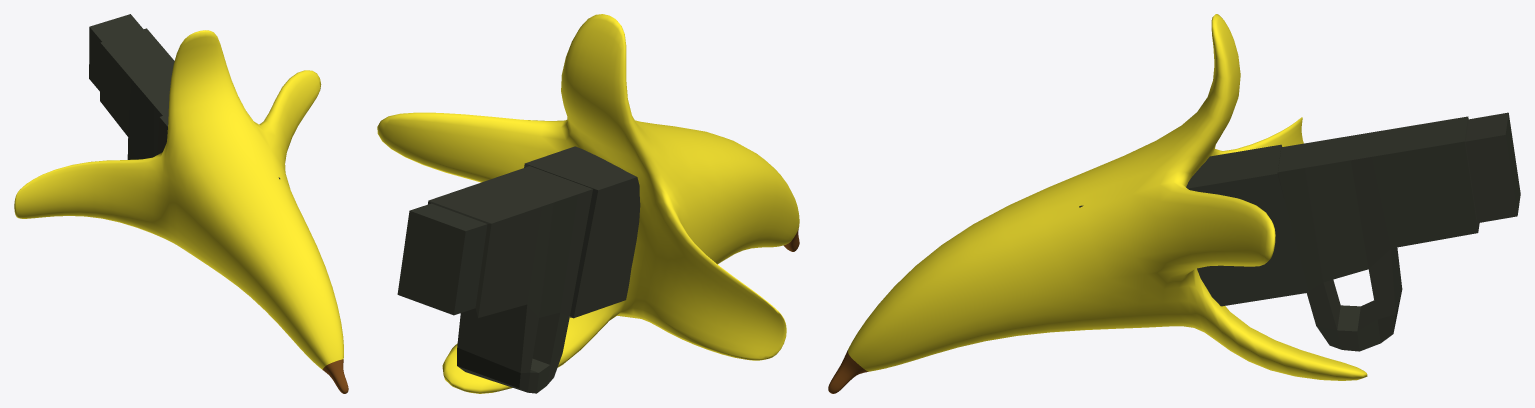
The model's file is bananagunreal.fbx.
3 renders of one model, left to right at view 1: azimuth 30°, elevation 25°; view 2: azimuth 150°, elevation 25°; view 3: azimuth 270°, elevation 25°, orthographic. The views are drawn at different scales.
Parts seen in each view (by area): view 1: Cubo.001, Cubo; view 2: Cubo.001, Cubo; view 3: Cubo.001, Cubo.
Part boxes in pixels (x1,y1,x2,y2): Cubo.001: (14, 30, 348, 393); Cubo: (89, 14, 280, 179); Cubo.001: (377, 14, 799, 393); Cubo: (397, 146, 640, 393); Cubo.001: (828, 14, 1367, 393); Cubo: (1079, 112, 1520, 351).
Size of the model in its own units: 117 by 100 by 169.
